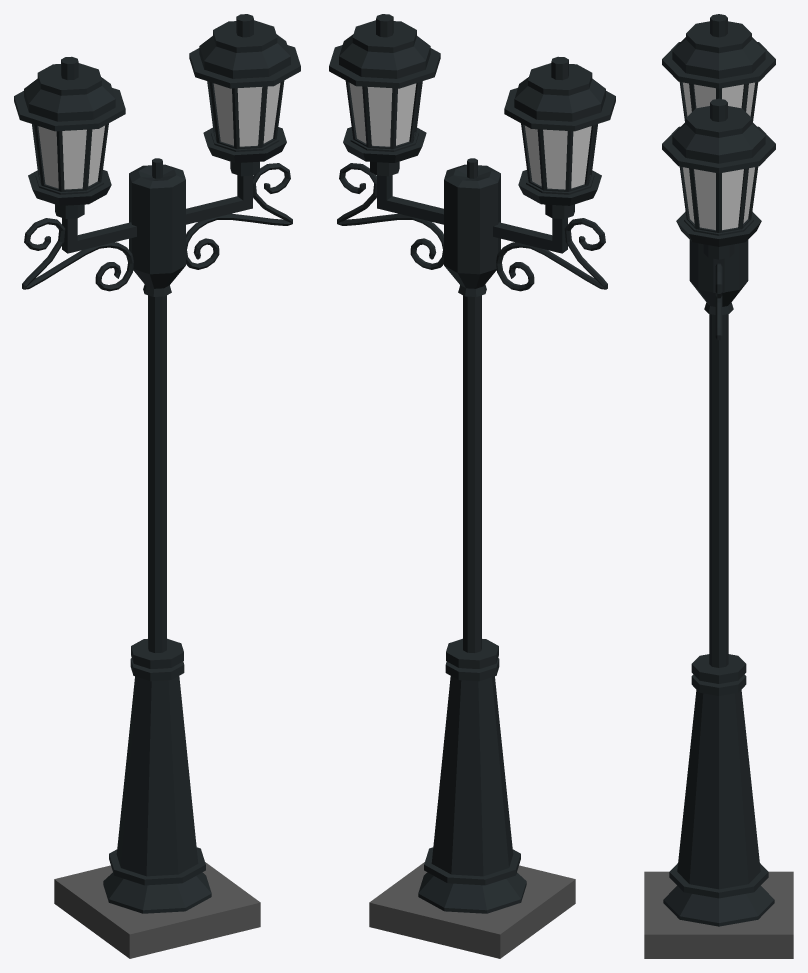
The model's file is SM_FloorProps_Light_02.fbx.
The picture shows the model from 3 angles, left to right: view 1: azimuth 30°, elevation 25°; view 2: azimuth 150°, elevation 25°; view 3: azimuth 270°, elevation 25°; orthographic projection.
Parts seen in each view (by area): view 1: SM_FloorProps_Light_02; view 2: SM_FloorProps_Light_02; view 3: SM_FloorProps_Light_02.
Part boxes in pixels (x1,y1,x2,y2): SM_FloorProps_Light_02: [14, 14, 300, 958]; SM_FloorProps_Light_02: [329, 14, 615, 958]; SM_FloorProps_Light_02: [644, 14, 793, 958].
Size of the model in its own units: 0.9893 by 3.01 by 0.4706.
